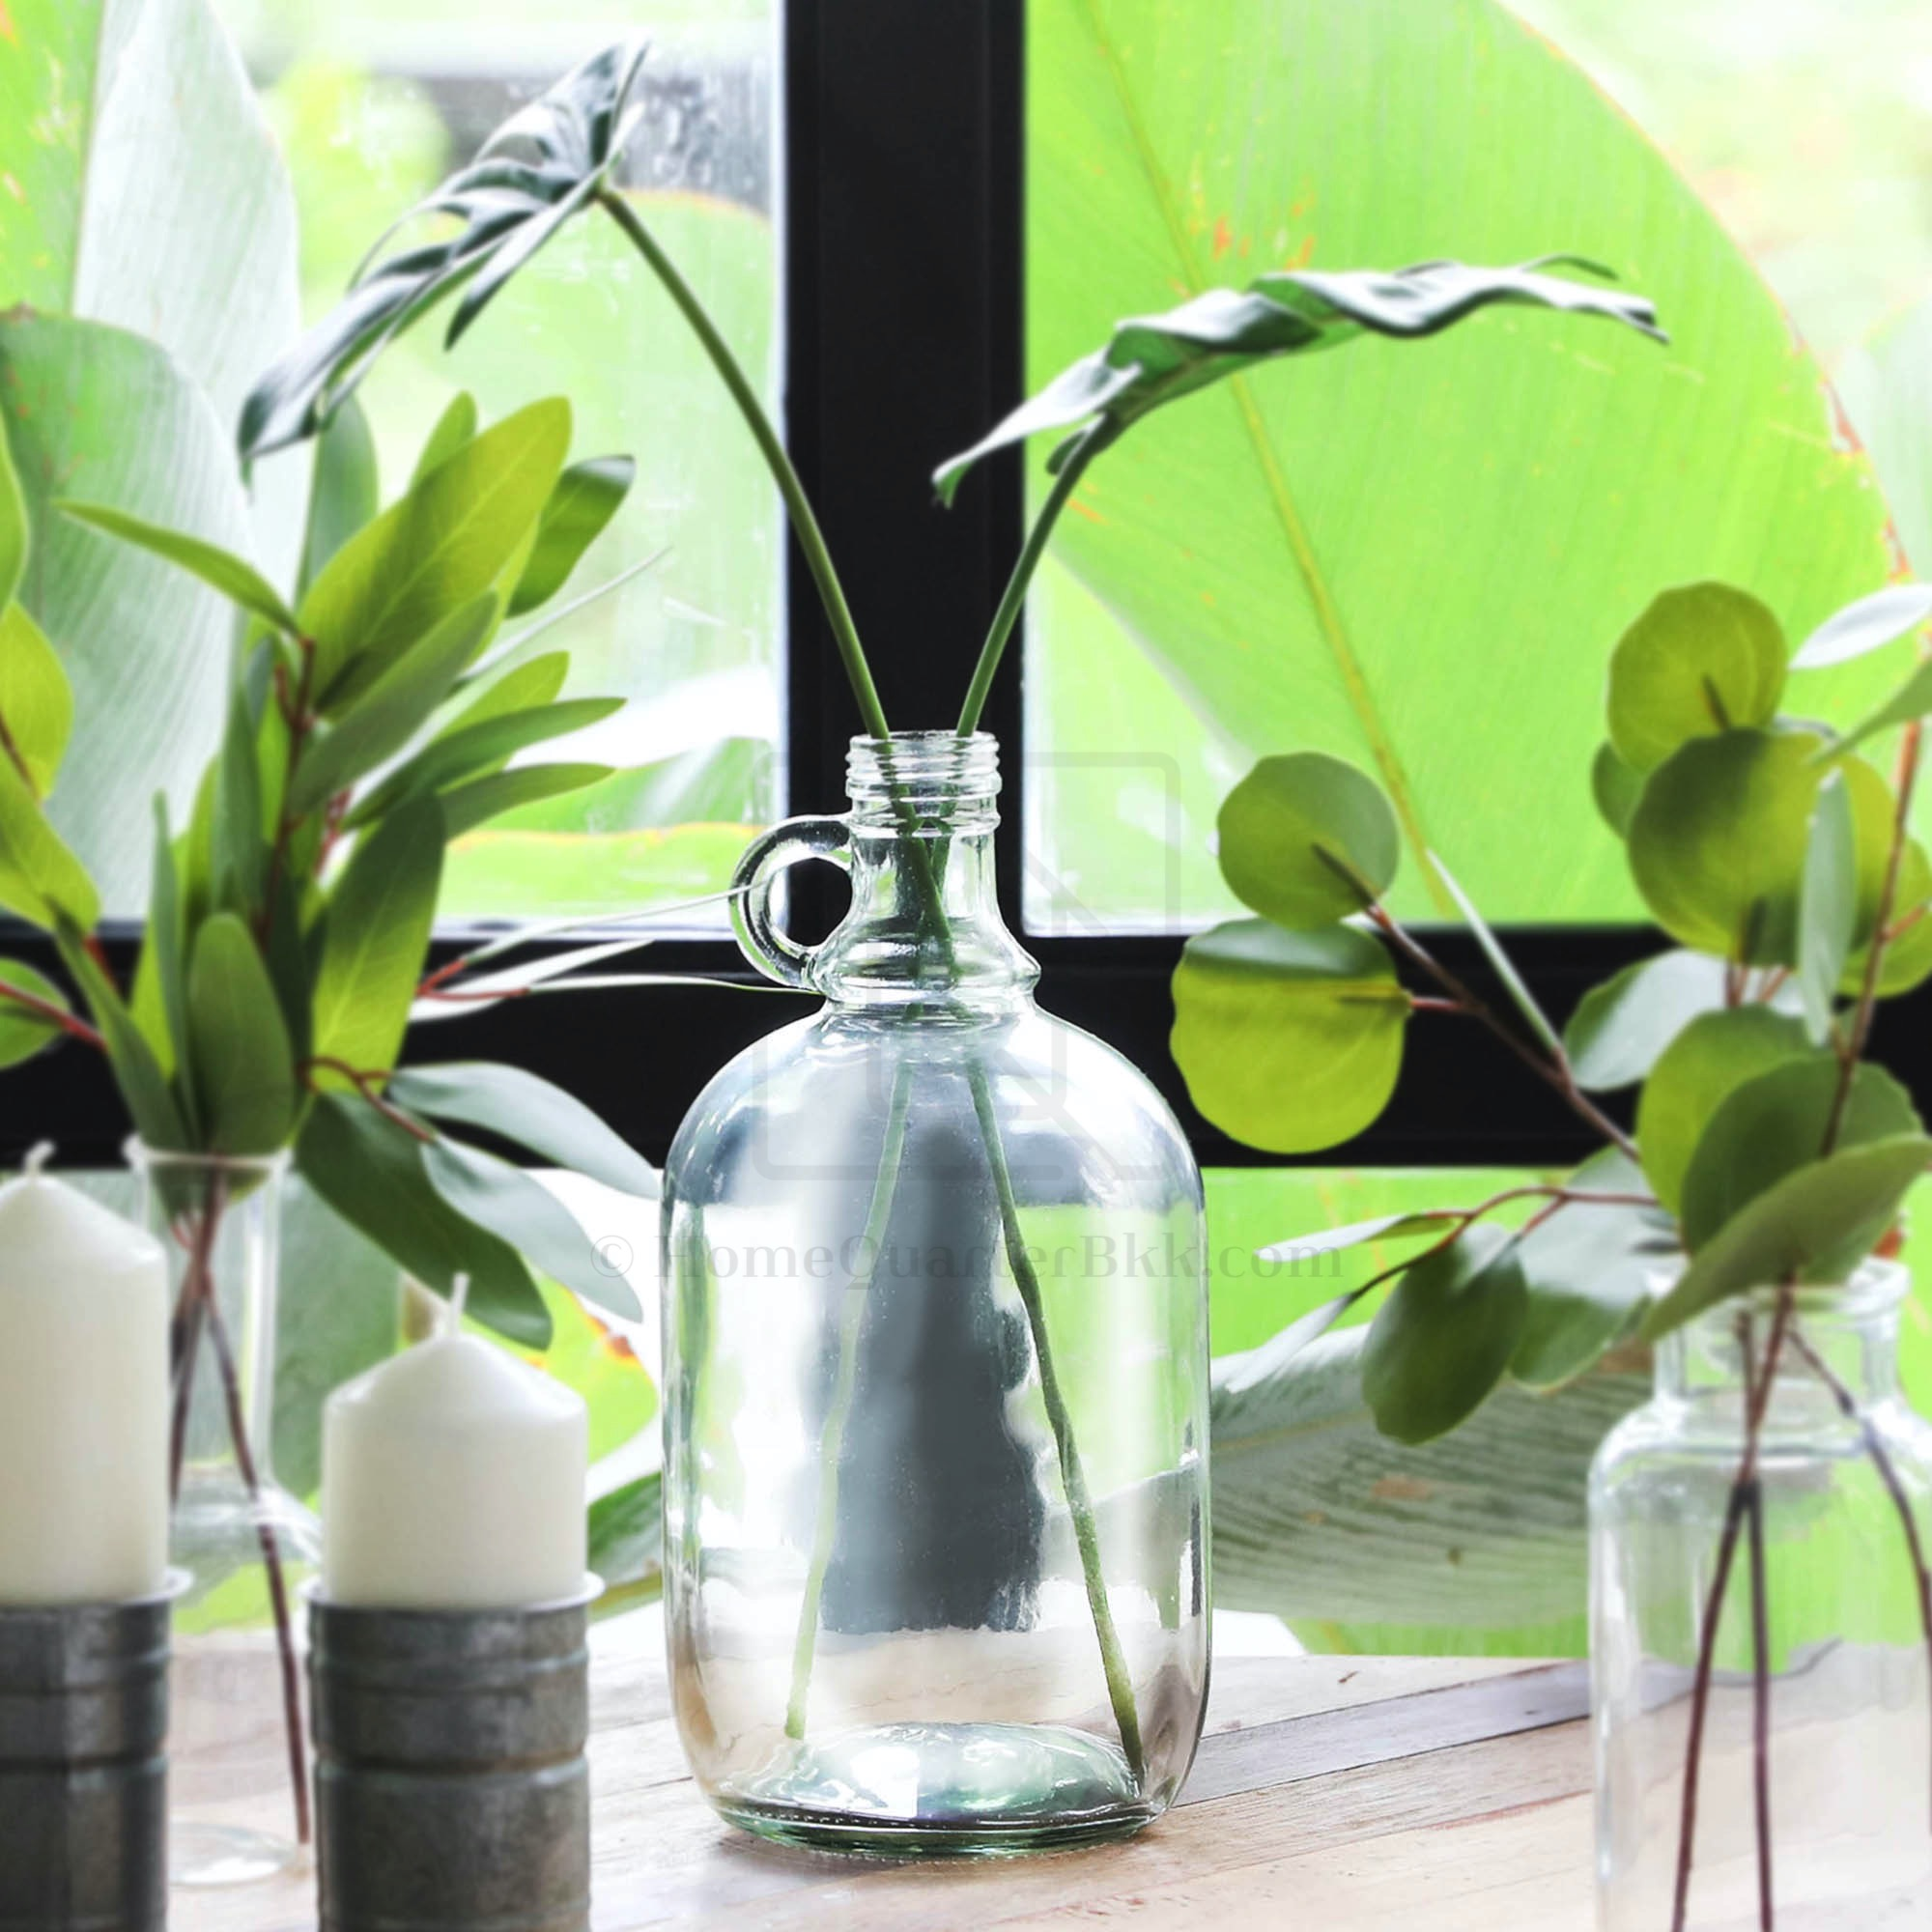glass_bottle: (651, 717, 1237, 1875)
